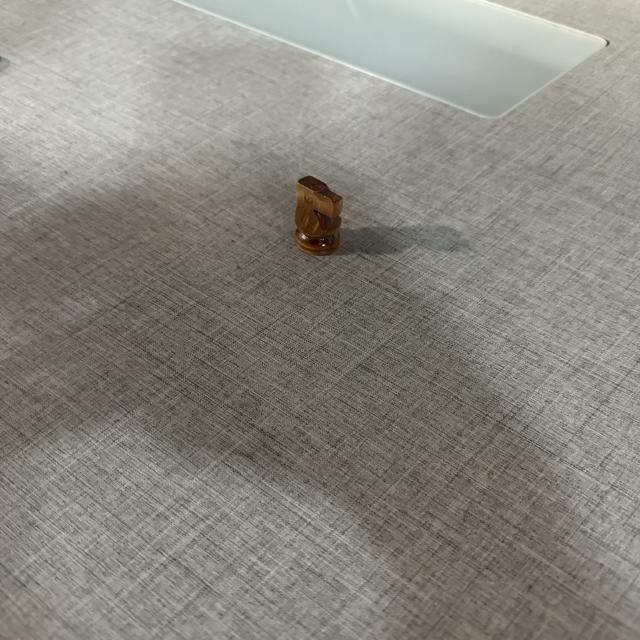Black-Knight: (296, 175, 344, 256)
